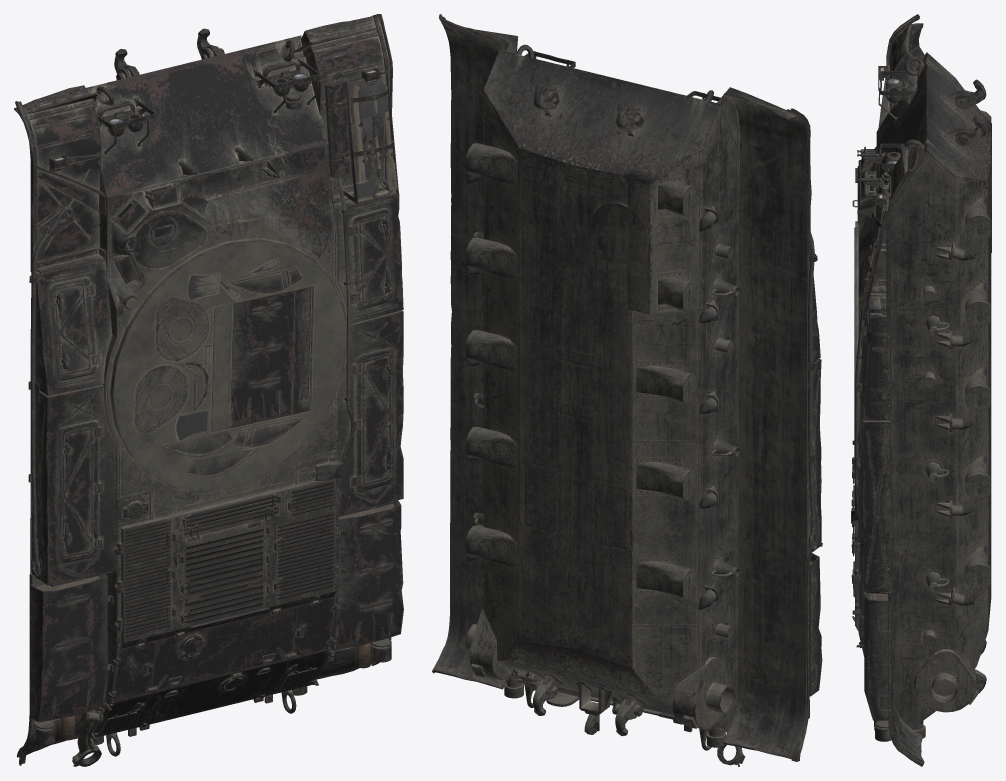
Rendered from Hull.glb.
The picture shows the model from 3 angles, left to right: view 1: azimuth 30°, elevation 25°; view 2: azimuth 150°, elevation 25°; view 3: azimuth 270°, elevation 25°; orthographic projection. The views are drawn at different scales.
Visible parts, largest first — view 1: set_0_group_0; view 2: set_0_group_0; view 3: set_0_group_0.
Boxes of the visible parts, x1,y1,x2,y2 form: set_0_group_0: (14,14,403,766); set_0_group_0: (432,14,822,766); set_0_group_0: (851,14,991,766).
Bounding box in the file's own units: 3.26 × 5.81 × 1.2.
Materials: 1 (1 with a texture image).
